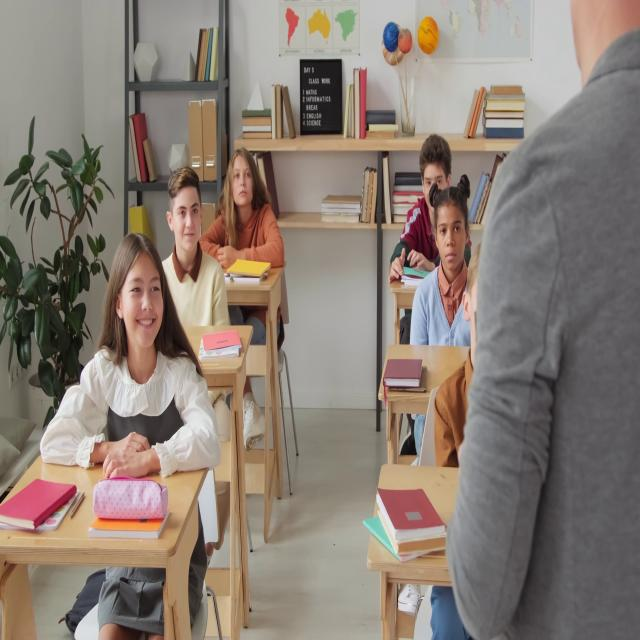listening: (39, 236, 221, 635), (206, 146, 289, 432), (149, 163, 235, 338), (405, 187, 487, 360), (396, 120, 466, 288), (431, 248, 481, 462)
